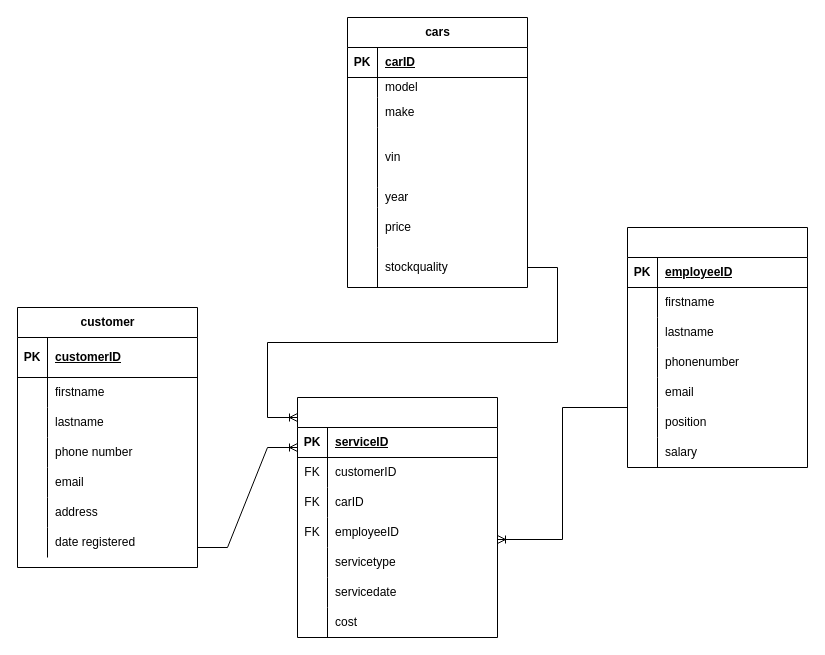
This 825x655 diagram has some shape labels left out. The box of each missing label's shape, as (x1, y1, x2, y2) in pixels:
employees: (626, 226, 808, 468)
services: (296, 396, 498, 638)
